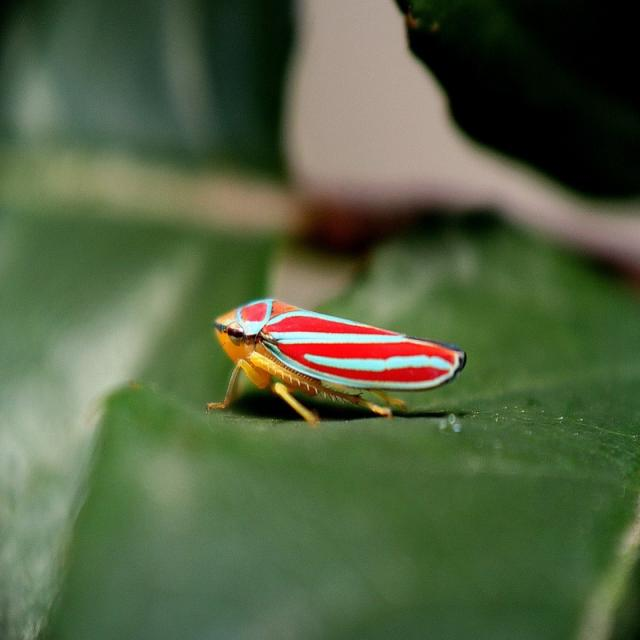Yechan: (179, 282, 468, 439)
